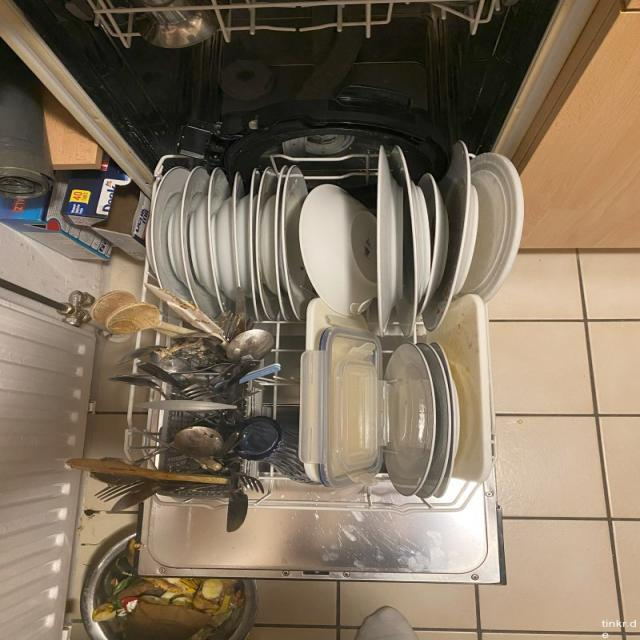clutery_bin: (104, 314, 263, 499)
